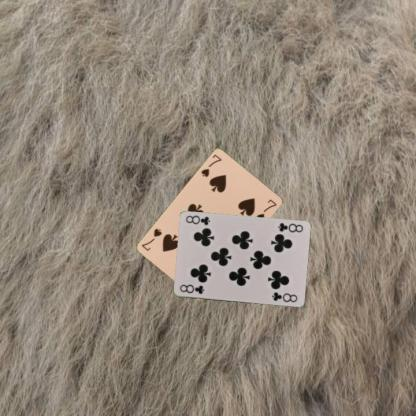7s: (198, 152, 223, 178)
8c: (177, 282, 206, 295), (275, 221, 304, 234)
